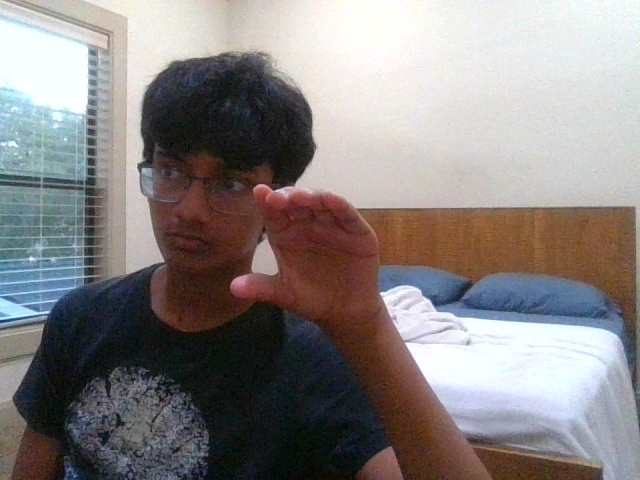no: (230, 184, 379, 317)
